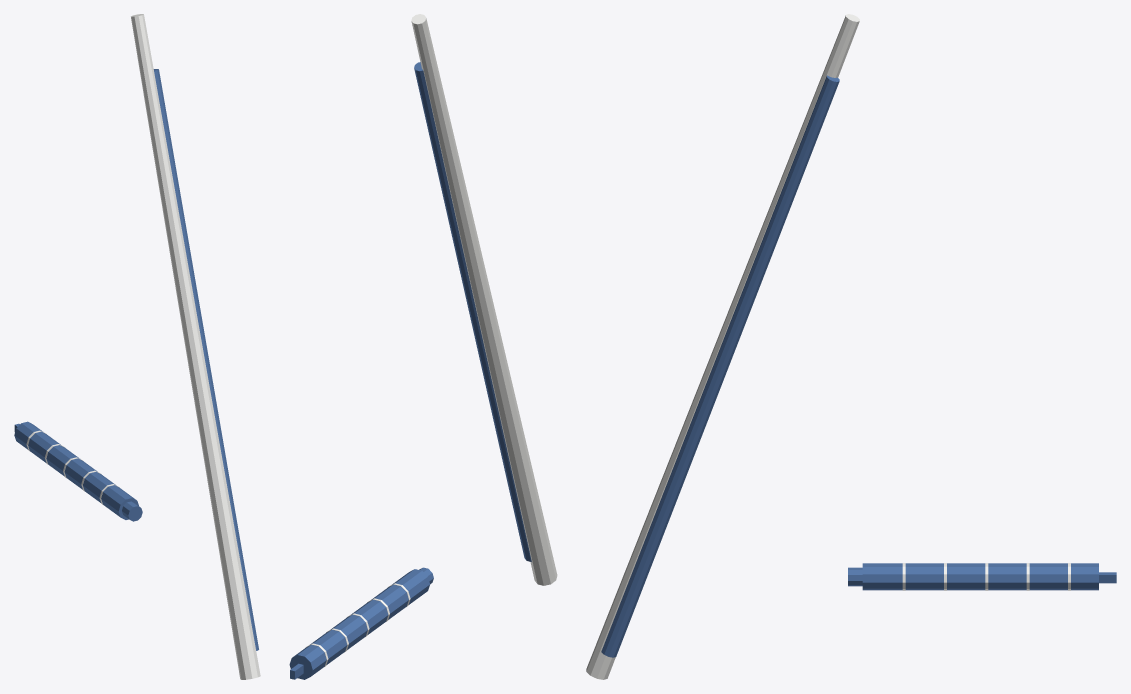
The model's file is marina-and-yacht-club-marina-and-yacht-club-furled-sai-4a2de20e__38304.glb.
3 views of the same model, side by side, from view 1: azimuth 30°, elevation 25°; view 2: azimuth 150°, elevation 25°; view 3: azimuth 270°, elevation 25° (orthographic). The views are drawn at different scales.
Parts seen in each view (by area): view 1: marina-and-yacht-club-furled-sail-set; view 2: marina-and-yacht-club-furled-sail-set; view 3: marina-and-yacht-club-furled-sail-set.
Boxes of the visible parts, x1,y1,x2,y2 form: marina-and-yacht-club-furled-sail-set: [14, 14, 260, 679]; marina-and-yacht-club-furled-sail-set: [289, 14, 557, 679]; marina-and-yacht-club-furled-sail-set: [586, 14, 1116, 679].
Size of the model in its own units: 0.6148 by 12.36 by 8.98.
